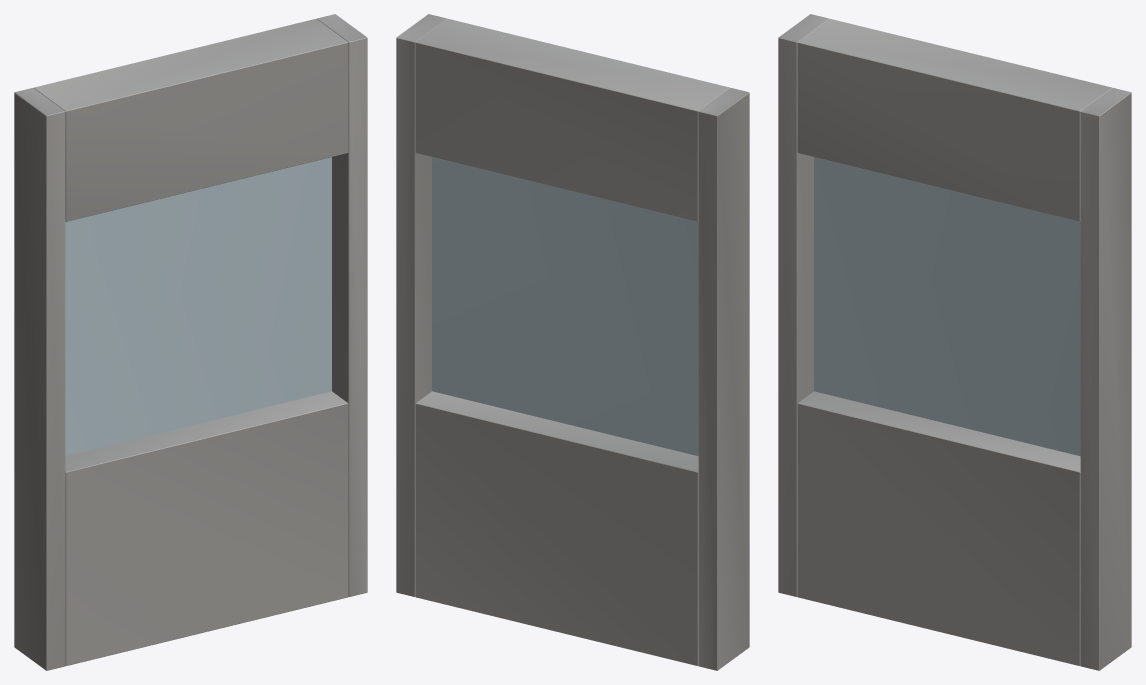
File: window_delco_01_w200.glb
3 renders of one model, left to right at view 1: azimuth 30°, elevation 25°; view 2: azimuth 150°, elevation 25°; view 3: azimuth 330°, elevation 25°, orthographic.
Parts seen in each view (by area): view 1: Window_Glass, Window_Sill, Window_Header, Window_Jamb_L, Window_Jamb_R; view 2: Window_Glass, Window_Sill, Window_Header, Window_Jamb_L, Window_Jamb_R; view 3: Window_Glass, Window_Sill, Window_Header, Window_Jamb_R, Window_Jamb_L.
Part boxes in pixels (x1,y1,x2,y2): Window_Glass: (65,157,331,456); Window_Sill: (65,391,348,665); Window_Header: (34,19,348,221); Window_Jamb_L: (14,88,65,670); Window_Jamb_R: (317,14,367,596); Window_Glass: (432,157,698,456); Window_Sill: (415,391,698,665); Window_Header: (415,19,729,221); Window_Jamb_L: (698,88,749,670); Window_Jamb_R: (396,14,446,596); Window_Glass: (814,157,1080,456); Window_Sill: (797,391,1080,665); Window_Header: (797,19,1111,221); Window_Jamb_R: (1080,88,1131,670); Window_Jamb_L: (778,14,828,596).
Size of what is drawn, in the model's own units: 2 by 3.3 by 0.35.
